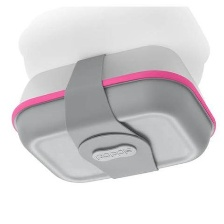plastic_box: (5, 40, 219, 191)
